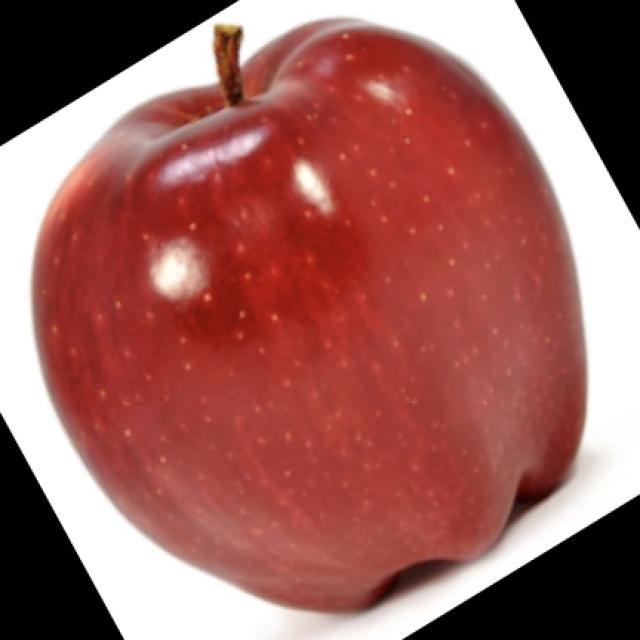Fresh Apple: (55, 15, 605, 582)
